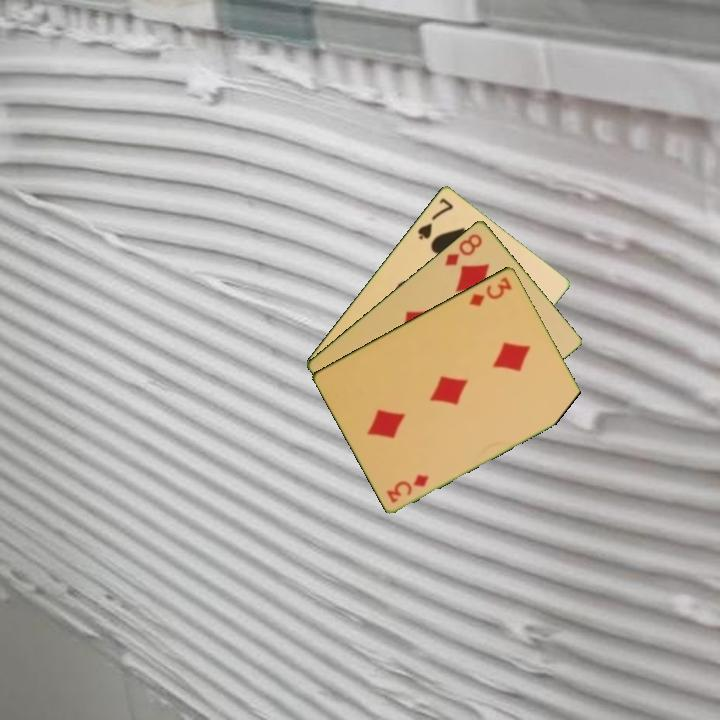3d: (465, 273, 515, 309), (383, 470, 432, 505)
7s: (414, 194, 456, 242)
8d: (441, 230, 485, 269)
